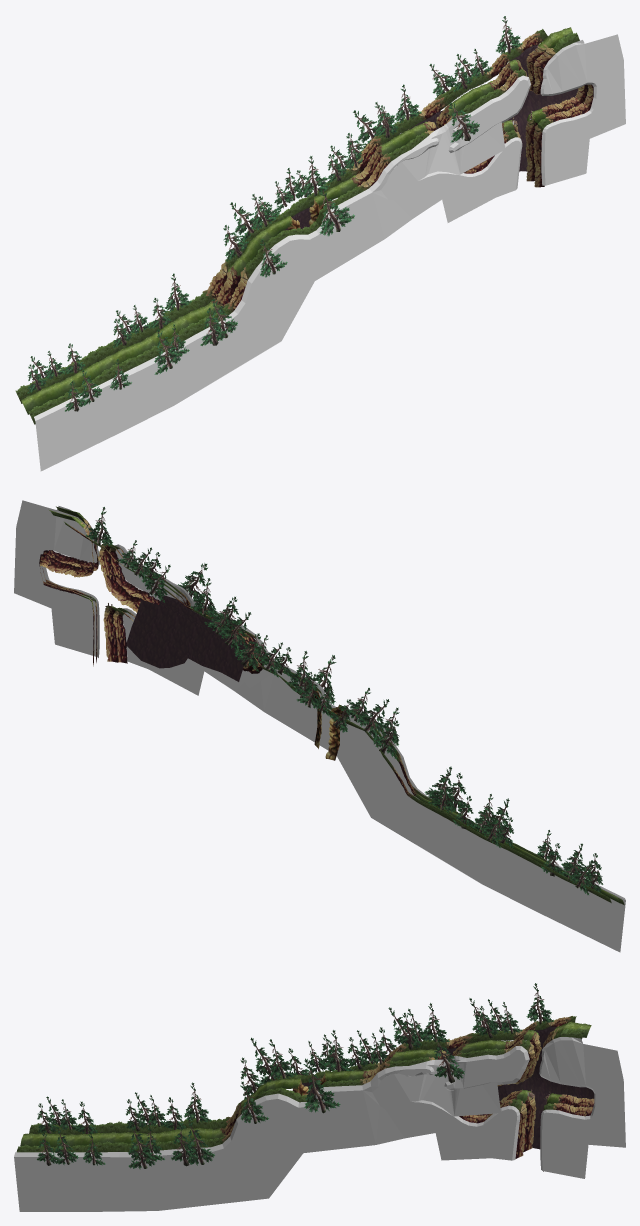
File: LVL 7 Pt1.FBX
The picture shows the model from 3 angles, top to bottom: view 1: azimuth 30°, elevation 25°; view 2: azimuth 150°, elevation 25°; view 3: azimuth 330°, elevation 25°; orthographic projection. The views are drawn at different scales.
Parts seen in each view (by area): view 1: LVL 7 Black_1, LVL 7 Black_5, LVL 7 Black_3, LVL 7 Black_2, LVL7 Black Cave, LVL7 GrassToRock Pt1_1, LVL7 GrassToRock Pt1 BG_1, LVL7 GrassToRock Pt1 FG_1, LVL 7 Black_4, LVL7 GrassToRock Pt2, LVL7 Trees FG_2, LVL7 GrassToRock Pt2 FG (+17 smaller); view 2: LVL 7 Black_1, LVL 7 Black_5, LVL 7 Dirt BG Pt1_2, LVL 7 Black_2, LVL 7 Black_3, LVL7 Trees_1, LVL7 Trees BG_2, LVL7 Trees_2, LVL7 GrassToRock Pt1 BG_1, LVL7 Trees_5, LVL7 Trees_3, LVL7 Trees FG_2 (+13 smaller); view 3: LVL 7 Black_1, LVL 7 Black_5, LVL 7 Black_3, LVL 7 Black_2, LVL7 Black Cave, LVL7 GrassToRock Pt1_1, LVL 7 Black_4, LVL7 Trees FG_2, LVL 7 Dirt BG Pt1_3, LVL7 GrassToRock Pt1 FG_1, LVL7 Trees_1, LVL7 GrassToRock Pt1 BG_1 (+20 smaller).
Boxes of the visible parts, x1=… form: LVL 7 Black_1: x1=34, y1=234, x2=314, y2=471; LVL 7 Black_5: x1=540, y1=34, x2=625, y2=185; LVL 7 Black_3: x1=385, y1=137, x2=522, y2=238; LVL 7 Black_2: x1=308, y1=138, x2=439, y2=280; LVL7 Black Cave: x1=382, y1=112, x2=504, y2=209; LVL7 GrassToRock Pt1_1: x1=21, y1=219, x2=287, y2=414; LVL7 GrassToRock Pt1 BG_1: x1=15, y1=217, x2=280, y2=403; LVL7 GrassToRock Pt1 FG_1: x1=28, y1=230, x2=286, y2=424; LVL 7 Black_4: x1=448, y1=75, x2=530, y2=152; LVL7 GrassToRock Pt2: x1=525, y1=27, x2=588, y2=181; LVL7 Trees FG_2: x1=154, y1=239, x2=287, y2=374; LVL7 GrassToRock Pt2 FG: x1=533, y1=32, x2=593, y2=187; LVL 7 Black_1: x1=336, y1=709, x2=625, y2=952; LVL 7 Black_5: x1=14, y1=500, x2=99, y2=657; LVL 7 Dirt BG Pt1_2: x1=126, y1=595, x2=248, y2=681; LVL 7 Black_2: x1=230, y1=619, x2=335, y2=750; LVL 7 Black_3: x1=122, y1=608, x2=263, y2=711; LVL7 Trees_1: x1=428, y1=773, x2=513, y2=847; LVL7 Trees BG_2: x1=204, y1=600, x2=260, y2=671; LVL7 Trees_2: x1=343, y1=688, x2=399, y2=758; LVL7 GrassToRock Pt1 BG_1: x1=338, y1=716, x2=611, y2=903; LVL7 Trees_5: x1=85, y1=507, x2=160, y2=581; LVL7 Trees_3: x1=249, y1=635, x2=314, y2=692; LVL7 Trees FG_2: x1=380, y1=707, x2=511, y2=836; LVL 7 Black_1: x1=14, y1=1093, x2=303, y2=1211; LVL 7 Black_5: x1=539, y1=1037, x2=625, y2=1178; LVL 7 Black_3: x1=376, y1=1100, x2=520, y2=1160; LVL 7 Black_2: x1=298, y1=1065, x2=434, y2=1153; LVL7 Black Cave: x1=372, y1=1056, x2=500, y2=1124; LVL7 GrassToRock Pt1_1: x1=20, y1=1078, x2=293, y2=1147; LVL 7 Black_4: x1=444, y1=1046, x2=529, y2=1090; LVL7 Trees FG_2: x1=128, y1=1081, x2=268, y2=1169; LVL 7 Dirt BG Pt1_3: x1=504, y1=1026, x2=594, y2=1149; LVL7 GrassToRock Pt1 FG_1: x1=16, y1=1087, x2=282, y2=1152; LVL7 Trees_1: x1=126, y1=1082, x2=211, y2=1131; LVL7 GrassToRock Pt1 BG_1: x1=29, y1=1074, x2=301, y2=1134.
Size of the model in its own units: 14401 by 1371 by 7597.
